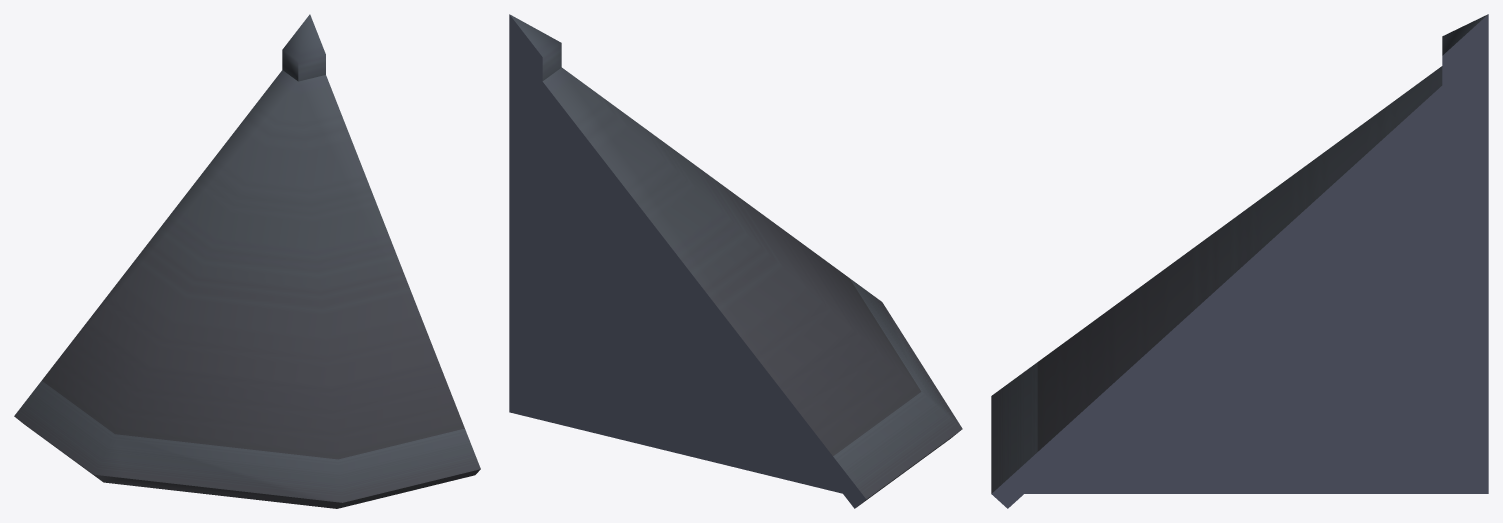
The model's file is roof-high-corner-round.glb.
The picture shows the model from 3 angles, left to right: view 1: azimuth 30°, elevation 25°; view 2: azimuth 150°, elevation 25°; view 3: azimuth 270°, elevation 25°; orthographic projection. The views are drawn at different scales.
Visible parts, largest first — view 1: roof-high-corner-round; view 2: roof-high-corner-round; view 3: roof-high-corner-round.
Boxes of the visible parts, x1,y1,x2,y2 form: roof-high-corner-round: [14, 14, 480, 508]; roof-high-corner-round: [509, 14, 962, 508]; roof-high-corner-round: [991, 14, 1488, 508].
Size of the model in its own units: 1.07 by 1.18 by 1.07.
1 material, 1 textured.
